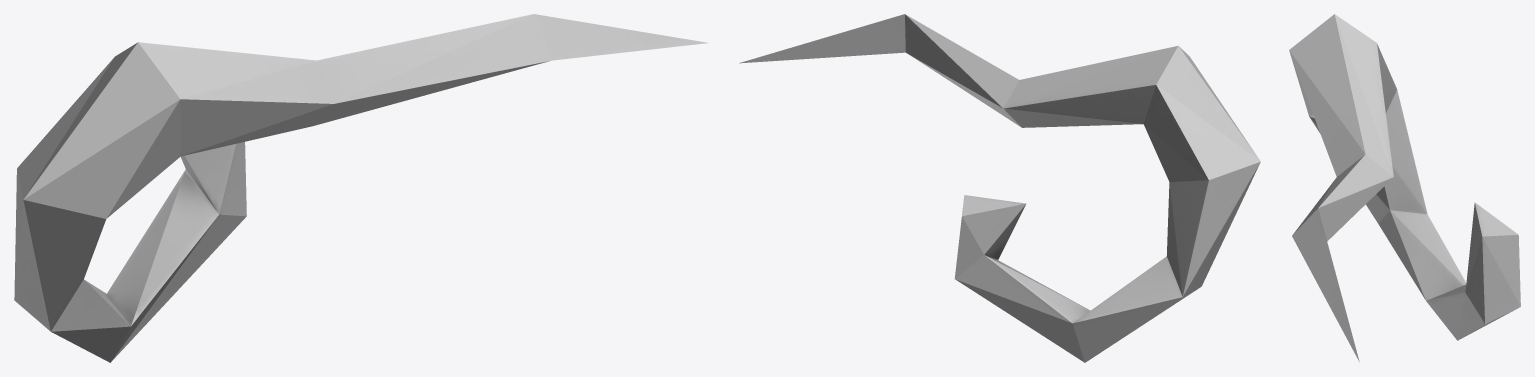
Rendered from Cloud_18.fbx.
The picture shows the model from 3 angles, left to right: view 1: azimuth 30°, elevation 25°; view 2: azimuth 150°, elevation 25°; view 3: azimuth 270°, elevation 25°; orthographic projection. The views are drawn at different scales.
Parts seen in each view (by area): view 1: Cloud_18; view 2: Cloud_18; view 3: Cloud_18.
Boxes of the visible parts, x1,y1,x2,y2 form: Cloud_18: (14,14,707,362); Cloud_18: (739,14,1260,362); Cloud_18: (1289,14,1520,362).
Bounding box in the file's own units: 70.9 × 37.68 × 25.75.
